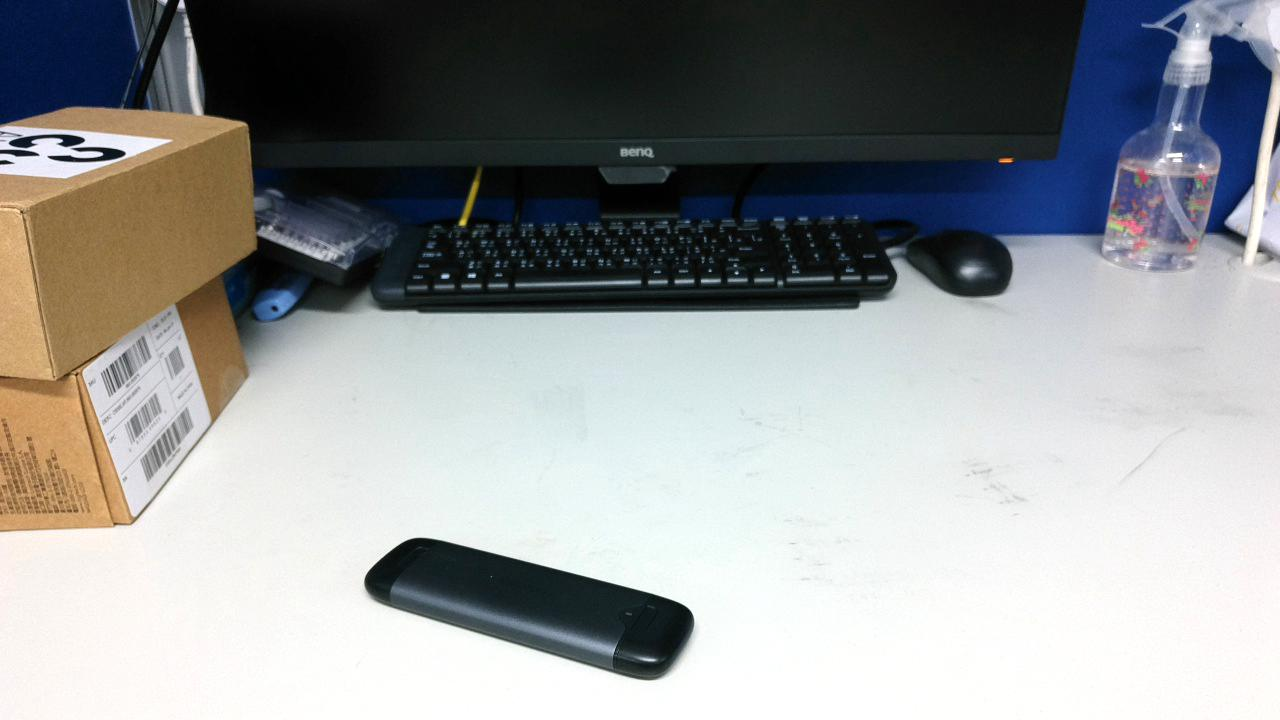blade: (435, 364, 592, 387)
grasp: (590, 347, 716, 400)
